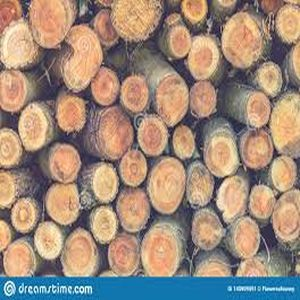log: (58, 23, 106, 96), (144, 155, 187, 218), (220, 11, 265, 69), (91, 107, 135, 163), (26, 1, 74, 51), (149, 71, 190, 129), (110, 1, 164, 43), (139, 227, 183, 278), (58, 227, 99, 277), (269, 91, 299, 158), (1, 17, 38, 70), (201, 129, 239, 179), (113, 186, 152, 234), (214, 172, 249, 224), (42, 182, 82, 227), (15, 103, 50, 154), (184, 33, 221, 81), (270, 185, 300, 243), (106, 232, 143, 279), (182, 160, 217, 209), (228, 212, 262, 262), (132, 115, 171, 158), (238, 126, 273, 172), (1, 239, 40, 280), (45, 142, 82, 184), (120, 73, 152, 118), (190, 208, 225, 249), (56, 96, 89, 139), (247, 181, 277, 227), (87, 162, 119, 204), (118, 147, 149, 189), (1, 70, 29, 116), (189, 78, 218, 122), (91, 67, 122, 108), (269, 4, 300, 45), (88, 206, 121, 244), (32, 220, 64, 259), (9, 195, 38, 238), (244, 89, 273, 130), (253, 60, 284, 98), (270, 153, 298, 194), (170, 123, 197, 160), (165, 21, 190, 59), (1, 129, 24, 169), (180, 1, 209, 25)
